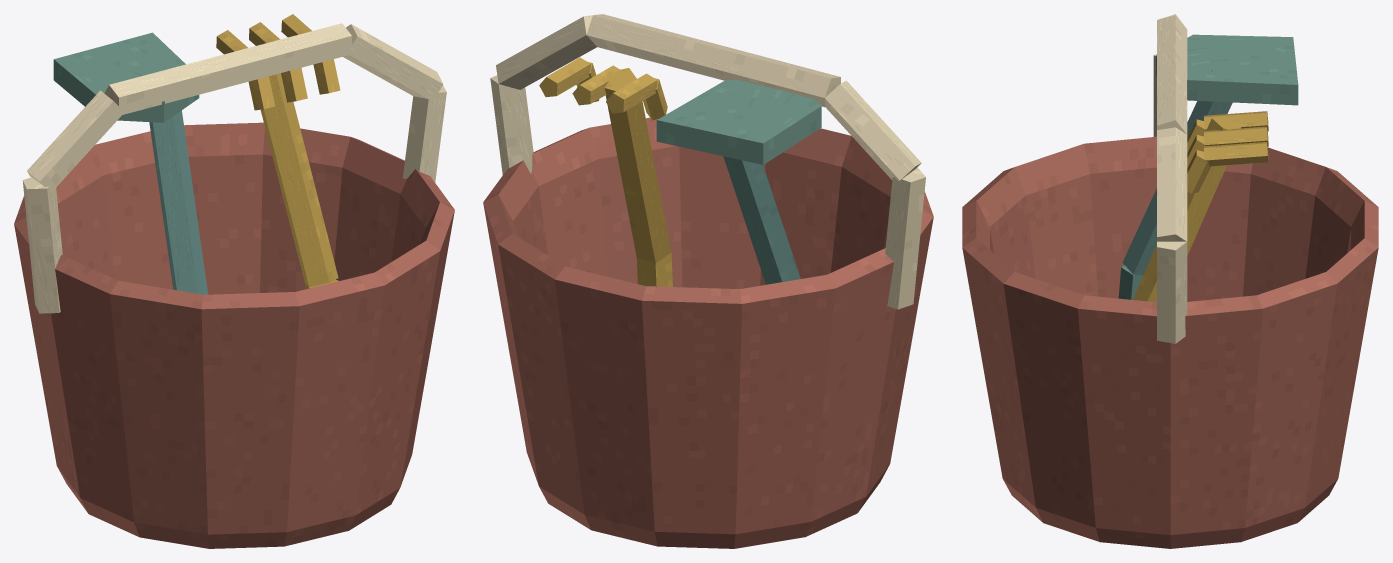
Rendered from sandbox_kit.glb.
The picture shows the model from 3 angles, left to right: view 1: azimuth 30°, elevation 25°; view 2: azimuth 150°, elevation 25°; view 3: azimuth 270°, elevation 25°; orthographic projection. The views are drawn at different scales.
Visible parts, largest first — view 1: block_sand bucket, block_toy handle 1 (×2), block_plastic carry handle 2, block_spade head, block_plastic carry handle 0, block_plastic carry handle 1, block_plastic carry handle 3, block_plastic carry handle 4, block_rake teeth 1 (×3); view 2: block_sand bucket, block_toy handle 1 (×2), block_spade head, block_plastic carry handle 2, block_plastic carry handle 0, block_plastic carry handle 1, block_plastic carry handle 3, block_rake teeth 0 (×3), block_plastic carry handle 4, block_toy handle 0, block_rake teeth 1; view 3: block_sand bucket, block_spade head, block_toy handle 1 (×2), block_plastic carry handle 3, block_plastic carry handle 2, block_rake teeth 0 (×3), block_plastic carry handle 4, block_rake teeth 1, block_toy handle 0.
Part boxes in pixels (<box>): block_sand bucket: <box>14,122,454,548</box>; block_toy handle 1 (×2): <box>149,73,338,294</box>; block_plastic carry handle 2: <box>104,23,352,114</box>; block_spade head: <box>53,32,199,122</box>; block_plastic carry handle 0: <box>22,177,62,313</box>; block_plastic carry handle 1: <box>27,90,124,192</box>; block_plastic carry handle 3: <box>343,24,443,101</box>; block_plastic carry handle 4: <box>402,85,446,182</box>; block_rake teeth 1 (×3): <box>248,59,340,110</box>; block_sand bucket: <box>483,117,933,548</box>; block_toy handle 1 (×2): <box>604,68,800,284</box>; block_spade head: <box>656,80,821,164</box>; block_plastic carry handle 2: <box>586,14,840,107</box>; block_plastic carry handle 0: <box>885,167,925,309</box>; block_plastic carry handle 1: <box>825,80,921,181</box>; block_plastic carry handle 3: <box>496,14,596,89</box>; block_rake teeth 0 (×3): <box>539,57,657,113</box>; block_plastic carry handle 4: <box>490,75,533,174</box>; block_toy handle 0: <box>636,253,672,286</box>; block_rake teeth 1: <box>643,78,667,120</box>; block_sand bucket: <box>962,136,1378,548</box>; block_spade head: <box>1156,34,1298,105</box>; block_toy handle 1 (×2): <box>1122,69,1240,302</box>; block_plastic carry handle 3: <box>1157,127,1187,241</box>; block_plastic carry handle 2: <box>1157,15,1187,134</box>; block_rake teeth 0 (×3): <box>1204,111,1268,166</box>; block_plastic carry handle 4: <box>1157,241,1187,343</box>; block_rake teeth 1: <box>1187,150,1211,193</box>; block_toy handle 0: <box>1118,265,1142,299</box>.
Size of the model in its own units: 0.1941 by 0.188 by 0.1722.
Materials: 1 (1 with a texture image).
